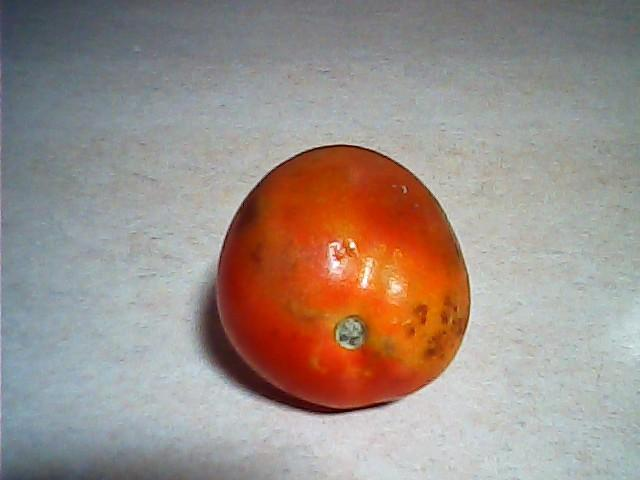defectuoso: (213, 143, 473, 414)
